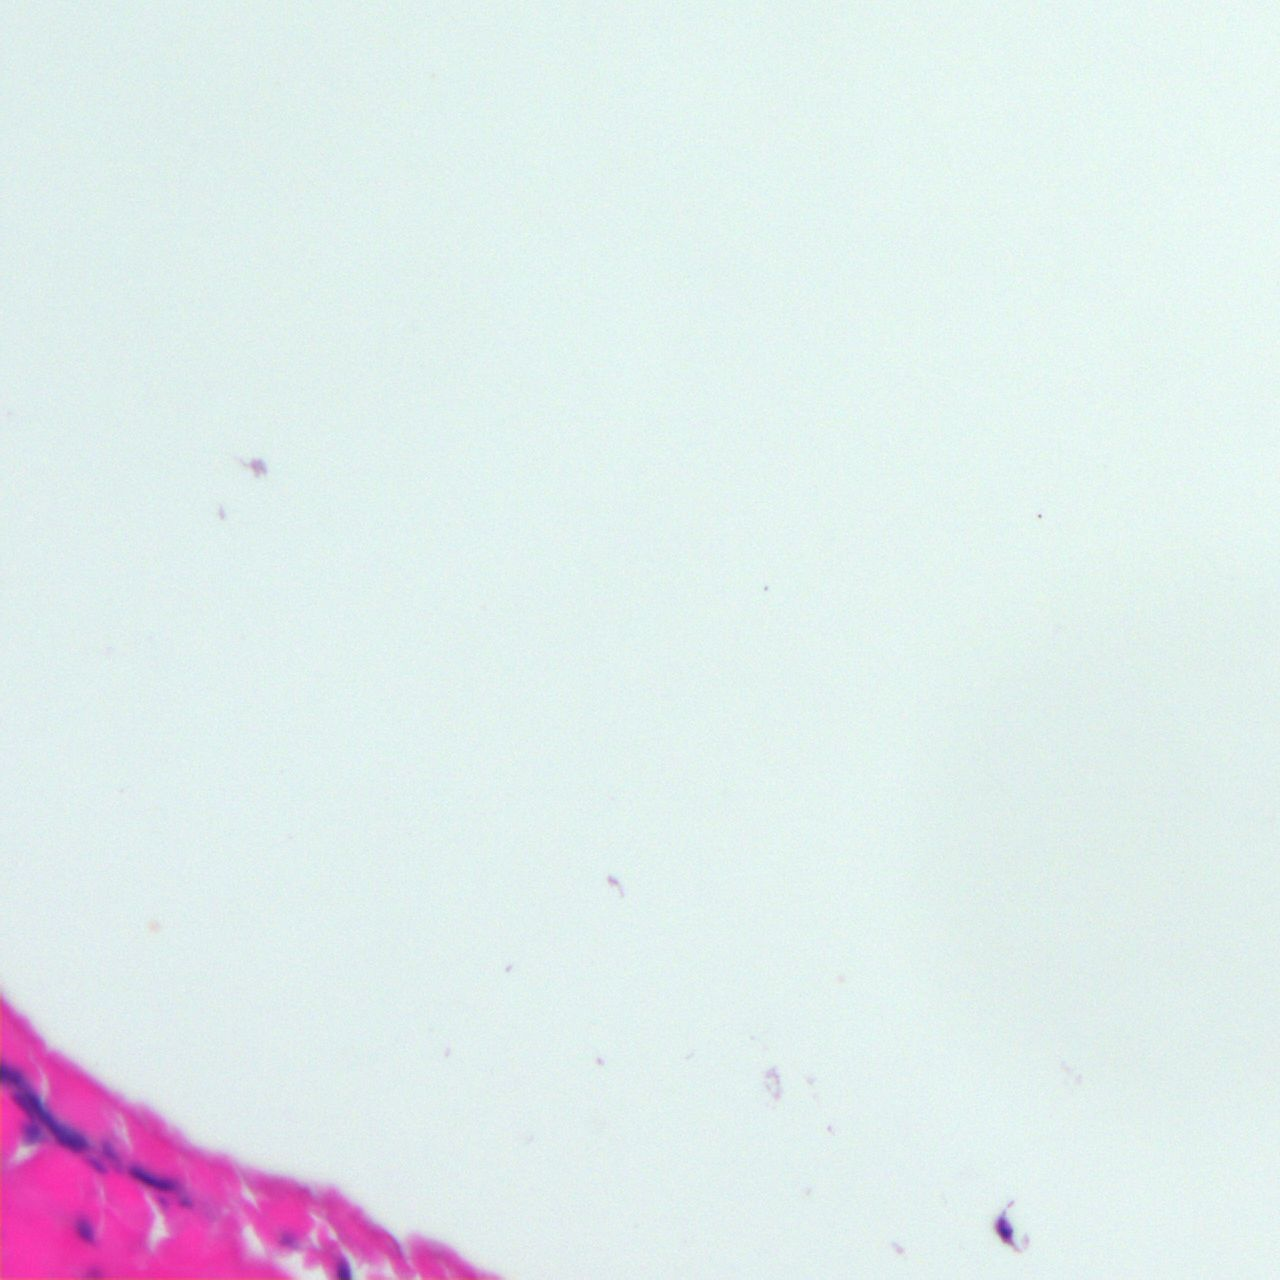nucleus-HE: (19, 1085, 94, 1160), (127, 1162, 184, 1194), (94, 1138, 130, 1173), (70, 1212, 94, 1248), (83, 1155, 110, 1179), (0, 1064, 25, 1088), (334, 1257, 350, 1280), (20, 1124, 39, 1144), (279, 1228, 297, 1250), (178, 1193, 195, 1208)
